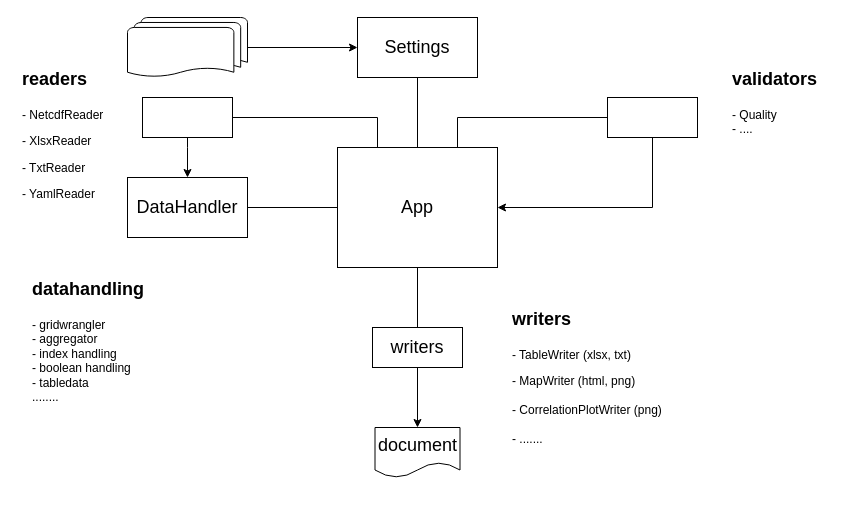
This 854x505 diagram has some shape labels left out. Here are the shapes that lost their labels. From the top down, the box of each, then its label:
(126, 16, 248, 78): etc
(142, 96, 232, 138): readers
(606, 96, 698, 138): validators
